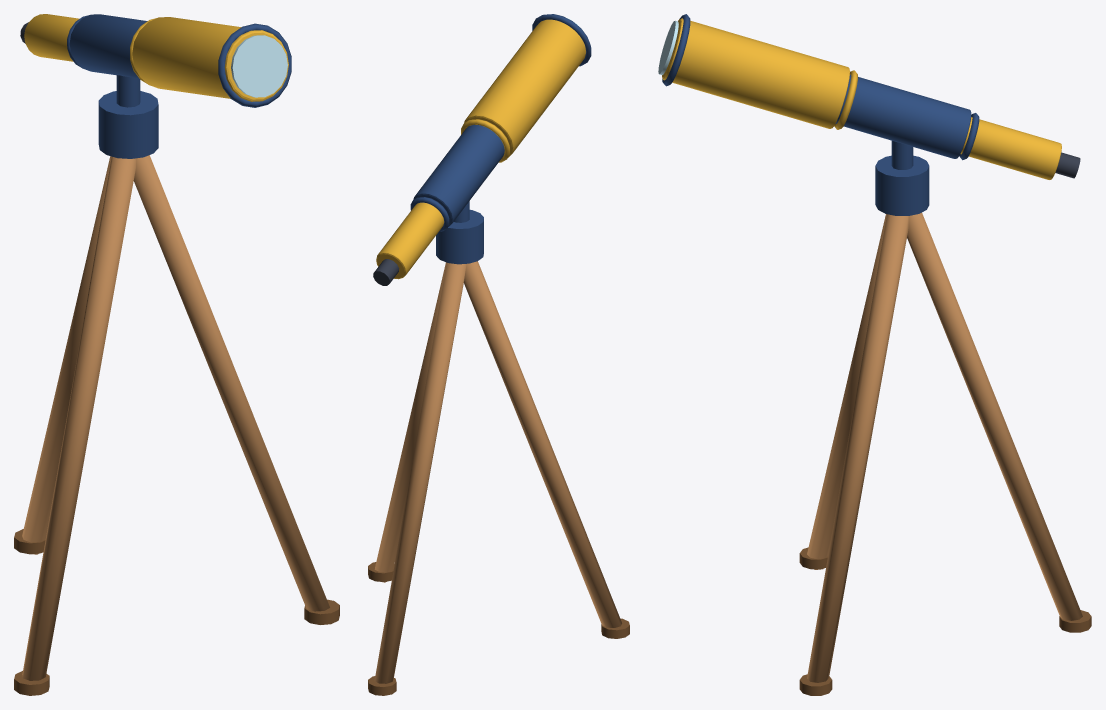
File: luneta.glb
3 views of the same model, side by side, from view 1: azimuth 30°, elevation 25°; view 2: azimuth 150°, elevation 25°; view 3: azimuth 270°, elevation 25° (orthographic). The views are drawn at different scales.
Parts seen in each view (by area): view 1: luneta, tubo; view 2: luneta, tubo; view 3: luneta, tubo.
Boxes of the visible parts, x1,y1,x2,y2 form: luneta: (14, 75, 339, 695); tubo: (20, 14, 291, 107); luneta: (368, 201, 629, 695); tubo: (373, 14, 591, 285); luneta: (799, 141, 1091, 695); tubo: (658, 14, 1080, 179).
Bounding box in the file's own units: 0.6113 × 1.25 × 0.8017.
